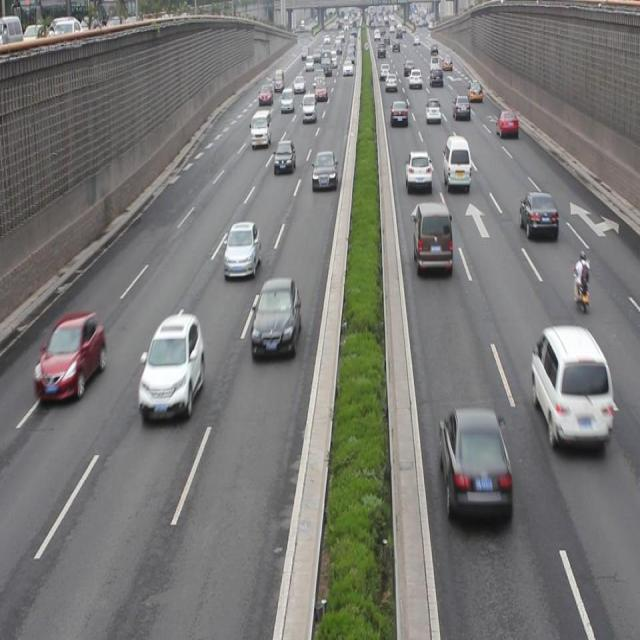car: (438, 406, 512, 524), (138, 314, 204, 422), (34, 313, 106, 404), (251, 276, 300, 358), (223, 220, 260, 278), (518, 189, 556, 240), (405, 148, 431, 190), (311, 149, 336, 190), (273, 140, 295, 173), (498, 109, 518, 138), (390, 99, 408, 126), (452, 93, 470, 120), (424, 97, 440, 122)
truck: (531, 325, 612, 444), (413, 201, 452, 273), (442, 135, 472, 190), (250, 110, 272, 148)
